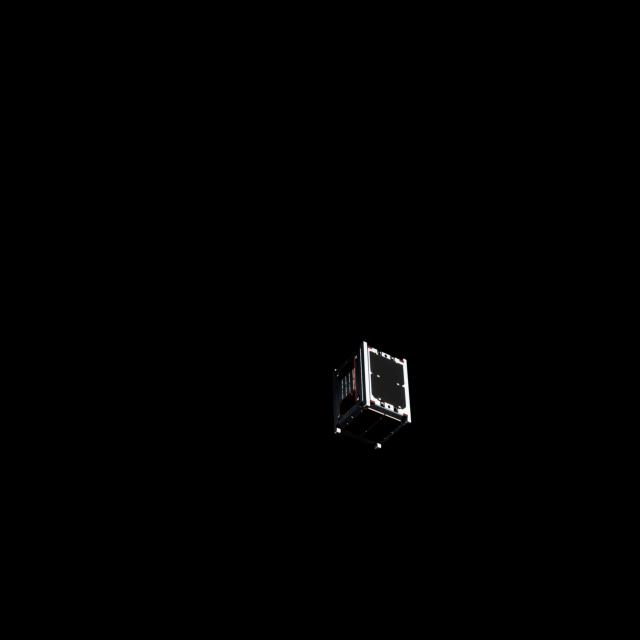medium_debris: (329, 342, 417, 460)
